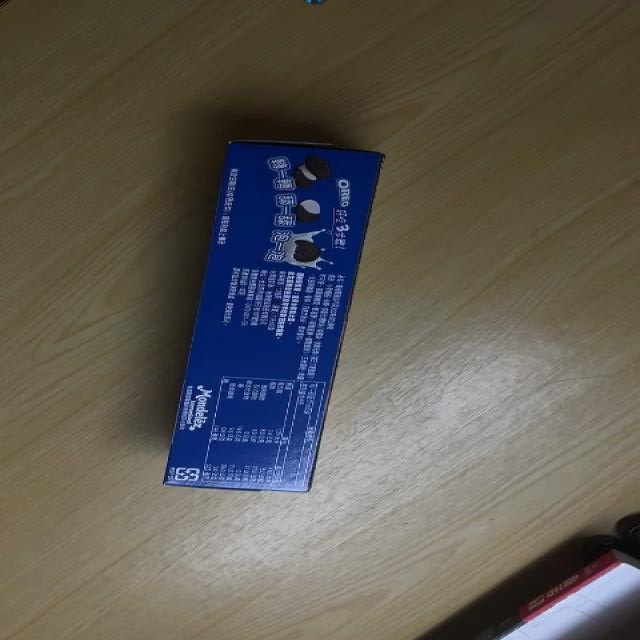Oreo: (163, 137, 386, 493)
